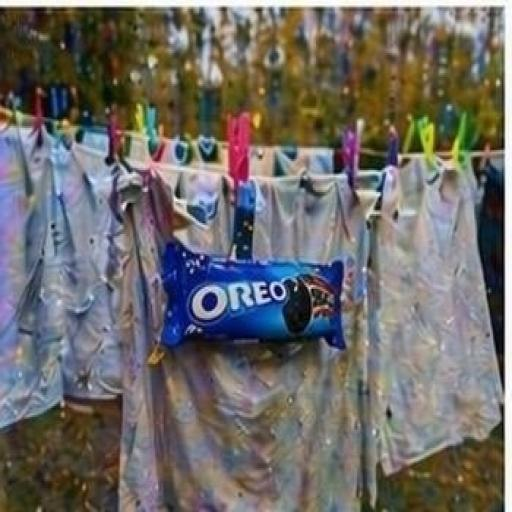oreo: (104, 170, 404, 401)
